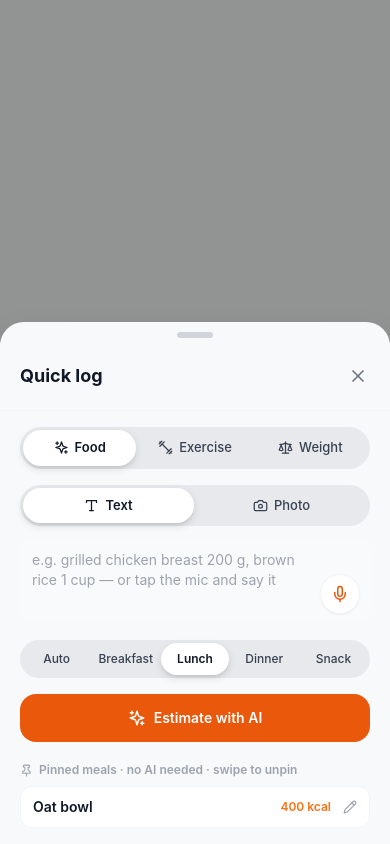
Scenario: LogModal editing a pin › renames a pin and changes its type
Click the button named "Edit Oat bowl": (350, 807) [331,790,369,824]
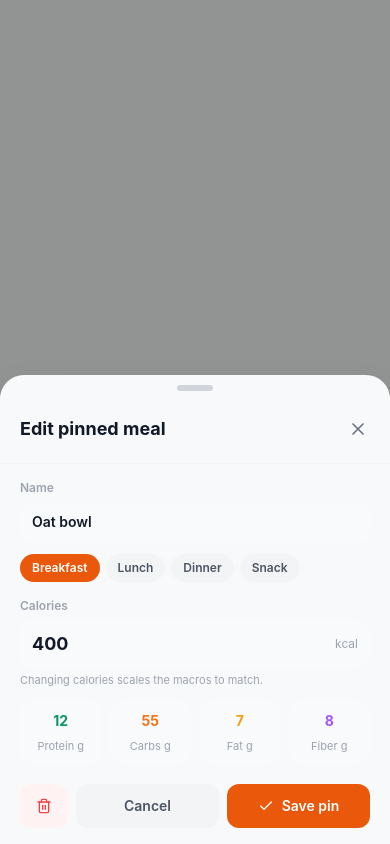
Now the heading "Edit pinned meal" is shown, box [20,415,166,443]
Replace the text in the field labelled "Name" with "Usual oats": (195, 522) [20,502,370,542]
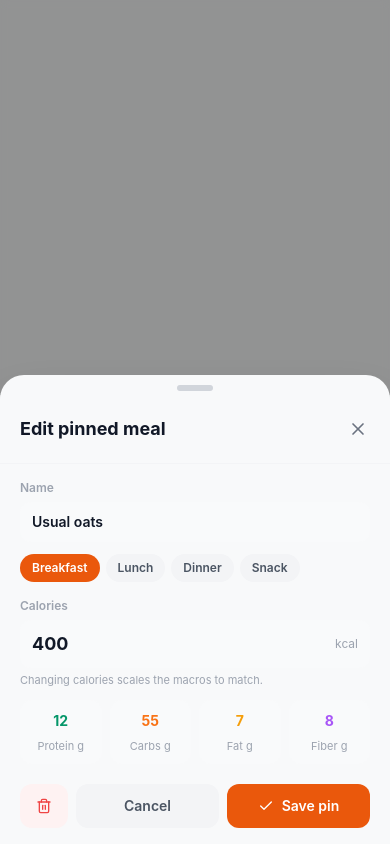
Click the button "Snack": (270, 568) [240,554,300,582]
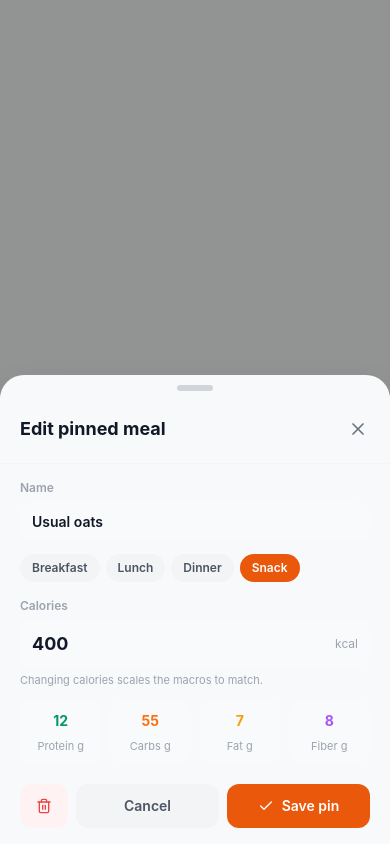
Click the button "Save pin": (298, 806) [227,784,370,828]
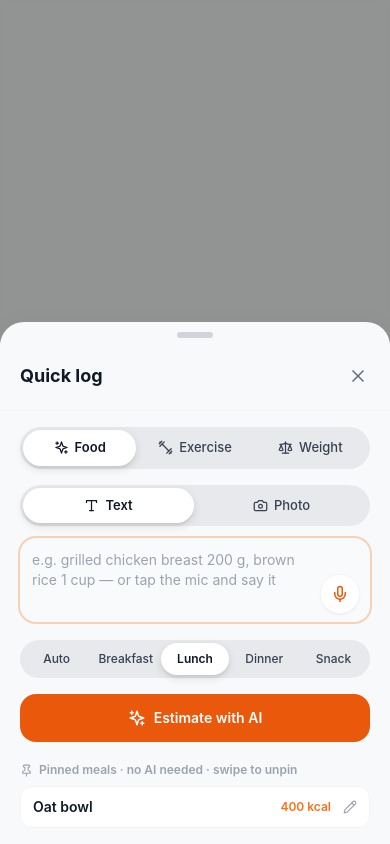
Now the button "Estimate with AI" is shown, box [20,694,370,742]
